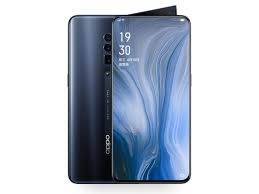oppo: (66, 15, 192, 185)
